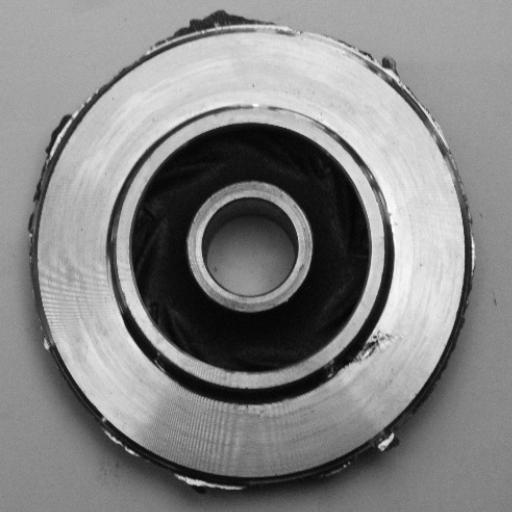casting_with_burr: (20, 10, 480, 498)
crack: (324, 325, 406, 379)
scratch: (228, 90, 340, 131), (358, 164, 411, 242)
